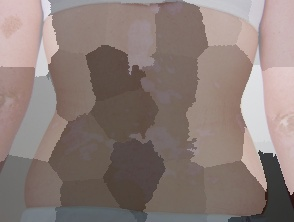vitiligo: (43, 0, 242, 221), (0, 5, 30, 154), (263, 84, 294, 162)
